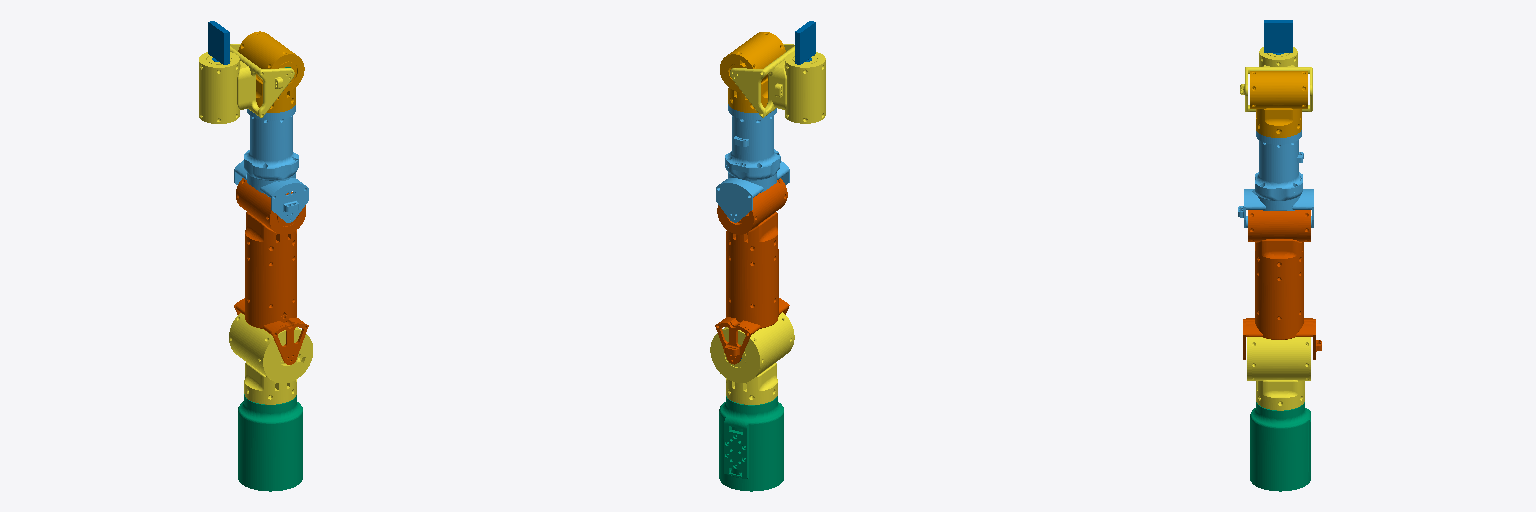
The robot description file, URDF, robot "arm6dof":
<?xml version='1.0' encoding='utf-8'?>
<robot name="arm6dof">
    <link name="world"/>

    <joint name="world_to_base" type="fixed">
        <parent link="world"/>
        <child link="jedziemy_dalej_V2_Obudowa_podstawa-v11-v1"/>
        <origin xyz="0 0 0" rpy="0 0 0"/>
    </joint>

    <link name="Silnik_ak45-36-v1">
        <inertial>
            <origin xyz="0.003580379446193227 5.406745075496171e-14 0.04092390119448847" rpy="0.0 -0.0 0.0" />
            <mass value="0.41683812668748693" />
            <inertia ixx="0.0001596718423631377" iyy="0.00016041758536708417" izz="6.298914759078449e-05" ixy="-1.0059454821655886e-18" iyz="-1.1753999951775428e-17" ixz="-8.523883825948129e-06" />
        </inertial>
        <visual name="Silnik_ak45-36-v1_visual">
            <origin xyz="0.003050453025397868 5.337498401704634e-14 0.034866814490128" rpy="-1.2136222858187365e-13 0.08726646259971599 -1.0000285373388856e-14" />
            <geometry>
                <mesh filename="package://arm6dof/urdf/meshes/Silnik_ak45-36-v1.stl" scale="0.001 0.001 0.001" />
            </geometry>
        </visual>
        <collision name="Silnik_ak45-36-v1_collision">
            <origin xyz="0.003050453025397868 5.337498401704634e-14 0.034866814490128" rpy="-1.2136222858187365e-13 0.08726646259971599 -1.0000285373388856e-14" />
            <geometry>
                <mesh filename="package://arm6dof/urdf/meshes/Silnik_ak45-36-v1.stl" scale="0.001 0.001 0.001" />
            </geometry>
        </collision>
    </link>
    <link name="jedziemy_dalej_V2_Obudowa_podstawa-v11-v1">
        <inertial>
            <origin xyz="2.471665912677848e-07 0.0032741555763765 0.014476011172937737" rpy="0.0 0.0 0.0" />
            <mass value="0.45097504935689353" />
            <inertia ixx="0.0011045045572738714" iyy="0.0010560043800969792" izz="0.0005942744180107535" ixy="-1.1961935170963945e-10" iyz="2.0893202204241118e-05" ixz="5.52168309819333e-09" />
        </inertial>
        <visual name="jedziemy_dalej_V2_Obudowa_podstawa-v11-v1_visual">
            <origin xyz="0.0 0.0 0.0" rpy="0.0 0.0 0.0" />
            <geometry>
                <mesh filename="package://arm6dof/urdf/meshes/jedziemy_dalej_V2_Obudowa_podstawa-v11-v1.stl" scale="0.001 0.001 0.001" />
            </geometry>
        </visual>
        <collision name="jedziemy_dalej_V2_Obudowa_podstawa-v11-v1_collision">
            <origin xyz="0.0 0.0 0.0" rpy="0.0 0.0 0.0" />
            <geometry>
                <mesh filename="package://arm6dof/urdf/meshes/jedziemy_dalej_V2_Obudowa_podstawa-v11-v1.stl" scale="0.001 0.001 0.001" />
            </geometry>
        </collision>
    </link>
    <link name="wyjscie_podstawa-v1">
        <inertial>
            <origin xyz="-0.007191918295976691 0.0017451314732682378 0.08340251930657093" rpy="0.0 -0.0 0.0" />
            <mass value="0.5337084968673121" />
            <inertia ixx="0.001365378966283453" iyy="0.0011271288576293961" izz="0.0008234185615442948" ixy="-3.9309111973658765e-07" iyz="-2.5356254302744965e-05" ixz="4.685015929818161e-05" />
        </inertial>
        <visual name="wyjscie_podstawa-v1_visual">
            <origin xyz="-0.011496597303514164 -0.2575499984801143 0.13197911921705802" rpy="1.2165799188215818e-13 0.08726646259971646 -3.1415926535897833" />
            <geometry>
                <mesh filename="package://arm6dof/urdf/meshes/wyjscie_podstawa-v1.stl" scale="0.001 0.001 0.001" />
            </geometry>
        </visual>
        <collision name="wyjscie_podstawa-v1_collision">
            <origin xyz="-0.011496597303514164 -0.2575499984801143 0.13197911921705802" rpy="1.2165799188215818e-13 0.08726646259971646 -3.1415926535897833" />
            <geometry>
                <mesh filename="package://arm6dof/urdf/meshes/wyjscie_podstawa-v1.stl" scale="0.001 0.001 0.001" />
            </geometry>
        </collision>
    </link>
    <link name="silnik60-v1">
        <inertial>
            <origin xyz="1.8495017073405507e-09 -4.334650220982894e-09 0.030465794657075565" rpy="0.0 -0.0 0.0" />
            <mass value="0.832000556903433" />
            <inertia ixx="0.00034640030869088206" iyy="0.00034640030868888973" izz="0.0005855795083725968" ixy="-1.7694179454963455e-16" iyz="3.972285346277488e-16" ixz="6.1582683397176e-17" />
        </inertial>
        <visual name="silnik60-v1_visual">
            <origin xyz="-0.014825189168012792 -0.16945272255215543 0.03379999848006464" rpy="-1.658062789394613 -1.5707963267947829 0" />
            <geometry>
                <mesh filename="package://arm6dof/urdf/meshes/silnik60-v1.stl" scale="0.001 0.001 0.001" />
            </geometry>
        </visual>
        <collision name="silnik60-v1_collision">
            <origin xyz="-0.014825189168012792 -0.16945272255215543 0.03379999848006464" rpy="-1.658062789394613 -1.5707963267947829 0" />
            <geometry>
                <mesh filename="package://arm6dof/urdf/meshes/silnik60-v1.stl" scale="0.001 0.001 0.001" />
            </geometry>
        </collision>
    </link>
    <link name="jedziemy_dalej_V2_Przegub_2_ucho_bez_kabla-v7-v1">
        <inertial>
            <origin xyz="-0.14928721628295327 -0.05224952167105884 0.013059017101912086" rpy="0.0 -0.0 0.0" />
            <mass value="0.8177528117001724" />
            <inertia ixx="0.0009834893122915855" iyy="0.0042632648765358085" izz="0.0044936841285563005" ixy="-4.325151590830977e-05" iyz="2.1575499105728883e-06" ixz="0.00031319160742792175" />
        </inertial>
        <visual name="jedziemy_dalej_V2_Przegub_2_ucho_bez_kabla-v7-v1_visual">
            <origin xyz="0.06755468522974517 0.0616000000000441 0.08373084013822489" rpy="1.4835298641951804 3.310614754159522e-15 -1.570796326794779" />
            <geometry>
                <mesh filename="package://arm6dof/urdf/meshes/jedziemy_dalej_V2_Przegub_2_ucho_bez_kabla-v7-v1.stl" scale="0.001 0.001 0.001" />
            </geometry>
        </visual>
        <collision name="jedziemy_dalej_V2_Przegub_2_ucho_bez_kabla-v7-v1_collision">
            <origin xyz="0.06755468522974517 0.0616000000000441 0.08373084013822489" rpy="1.4835298641951804 3.310614754159522e-15 -1.570796326794779" />
            <geometry>
                <mesh filename="package://arm6dof/urdf/meshes/jedziemy_dalej_V2_Przegub_2_ucho_bez_kabla-v7-v1.stl" scale="0.001 0.001 0.001" />
            </geometry>
        </collision>
    </link>
    <link name="jedziemy_dalej_V2_3_przegub-v1_Sprzeglo_ak45-36-v12-v1-v1">
        <inertial>
            <origin xyz="2.1240247161102843e-09 0.04108021962528416 -3.7123828278140536e-09" rpy="0.0 -0.0 0.0" />
            <mass value="0.4168381266874869" />
            <inertia ixx="0.00016041758556541727" iyy="6.224340438697792e-05" izz="0.00016041758536859858" ixy="2.0086471548552765e-15" iyz="-1.752445545492444e-16" ixz="-1.7351861318098122e-14" />
        </inertial>
        <visual name="jedziemy_dalej_V2_3_przegub-v1_Sprzeglo_ak45-36-v12-v1-v1_visual">
            <origin xyz="2.1238577385673807e-09 0.02499999583371225 -3.7123680751705025e-09" rpy="1.570796326794901 0.08726646259971611 1.2148404276792067e-13" />
            <geometry>
                <mesh filename="package://arm6dof/urdf/meshes/jedziemy_dalej_V2_3_przegub-v1_Sprzeglo_ak45-36-v12-v1-v1.stl" scale="0.001 0.001 0.001" />
            </geometry>
        </visual>
        <collision name="jedziemy_dalej_V2_3_przegub-v1_Sprzeglo_ak45-36-v12-v1-v1_collision">
            <origin xyz="2.1238577385673807e-09 0.02499999583371225 -3.7123680751705025e-09" rpy="1.570796326794901 0.08726646259971611 1.2148404276792067e-13" />
            <geometry>
                <mesh filename="package://arm6dof/urdf/meshes/jedziemy_dalej_V2_3_przegub-v1_Sprzeglo_ak45-36-v12-v1-v1.stl" scale="0.001 0.001 0.001" />
            </geometry>
        </collision>
    </link>
    <link name="Bez-nazwy-v1_jedziemy_dalej_V2_silnik_ak_45_36-v1-v1">
        <inertial>
            <origin xyz="0.0035429149450254905 -0.04049572393485256 1.3297558110192399e-09" rpy="0.0 -0.0 0.0" />
            <mass value="0.4192142851894471" />
            <inertia ixx="0.00016334542340003255" iyy="6.297161364714481e-05" izz="0.00016411963707958777" ixy="8.849305406149165e-06" iyz="1.5707378973883745e-16" ixz="-1.3742262536253769e-17" />
        </inertial>
        <visual name="Bez-nazwy-v1_jedziemy_dalej_V2_silnik_ak_45_36-v1-v1_visual">
            <origin xyz="0.00521191170660039 -0.059572444214703424 1.3297689743785313e-09" rpy="-1.5707963267950176 6.687500211728214e-15 0.08726646259971646" />
            <geometry>
                <mesh filename="package://arm6dof/urdf/meshes/Bez-nazwy-v1_jedziemy_dalej_V2_silnik_ak_45_36-v1-v1.stl" scale="0.001 0.001 0.001" />
            </geometry>
        </visual>
        <collision name="Bez-nazwy-v1_jedziemy_dalej_V2_silnik_ak_45_36-v1-v1_collision">
            <origin xyz="0.00521191170660039 -0.059572444214703424 1.3297689743785313e-09" rpy="-1.5707963267950176 6.687500211728214e-15 0.08726646259971646" />
            <geometry>
                <mesh filename="package://arm6dof/urdf/meshes/Bez-nazwy-v1_jedziemy_dalej_V2_silnik_ak_45_36-v1-v1.stl" scale="0.001 0.001 0.001" />
            </geometry>
        </collision>
    </link>
    <link name="jedziemy_dalej_V2_Obrót-pózniej-v5-v1">
        <inertial>
            <origin xyz="-0.0046158587778199235 -0.0011095045862415448 -0.051933778126588205" rpy="0.0 -0.0 0.0" />
            <mass value="0.32878531940648154" />
            <inertia ixx="0.000509832899061511" iyy="0.0004038297217688336" izz="0.0003372019176561922" ixy="1.7348225850772502e-07" iyz="-1.0277384035525924e-05" ixz="-1.5994832759011132e-05" />
        </inertial>
        <visual name="jedziemy_dalej_V2_Obrót-pózniej-v5-v1_visual">
            <origin xyz="-0.010075962435666367 0.00754999980982846 -0.11574114442623273" rpy="-3.141592653589672 -0.08726646259971646 3.1415926535897865" />
            <geometry>
                <mesh filename="package://arm6dof/urdf/meshes/jedziemy_dalej_V2_Obrót-pózniej-v5-v1.stl" scale="0.001 0.001 0.001" />
            </geometry>
        </visual>
        <collision name="jedziemy_dalej_V2_Obrót-pózniej-v5-v1_collision">
            <origin xyz="-0.010075962435666367 0.00754999980982846 -0.11574114442623273" rpy="-3.141592653589672 -0.08726646259971646 3.1415926535897865" />
            <geometry>
                <mesh filename="package://arm6dof/urdf/meshes/jedziemy_dalej_V2_Obrót-pózniej-v5-v1.stl" scale="0.001 0.001 0.001" />
            </geometry>
        </collision>
    </link>
    <link name="jedziemy_dalej_V2_Komponent98-v1">
        <inertial>
            <origin xyz="-0.007566279995924292 0.05135006757190421 -0.08807751210315004" rpy="0.0 -0.0 0.0" />
            <mass value="0.3053908468979247" />
            <inertia ixx="0.0008056737865500107" iyy="0.0006986117839719048" izz="0.0003737065384801923" ixy="5.44375166488086e-07" iyz="5.261648555922213e-06" ixz="-3.722509979493284e-05" />
        </inertial>
        <visual name="jedziemy_dalej_V2_Komponent98-v1_visual">
            <origin xyz="-0.0104897036537713 0.05128649132976626 -0.12245172543197906" rpy="1.5707963267950182 -0.0872664625997162 3.1415926535897865" />
            <geometry>
                <mesh filename="package://arm6dof/urdf/meshes/jedziemy_dalej_V2_Komponent98-v1.stl" scale="0.001 0.001 0.001" />
            </geometry>
        </visual>
        <collision name="jedziemy_dalej_V2_Komponent98-v1_collision">
            <origin xyz="-0.0104897036537713 0.05128649132976626 -0.12245172543197906" rpy="1.5707963267950182 -0.0872664625997162 3.1415926535897865" />
            <geometry>
                <mesh filename="package://arm6dof/urdf/meshes/jedziemy_dalej_V2_Komponent98-v1.stl" scale="0.001 0.001 0.001" />
            </geometry>
        </collision>
    </link>
    <link name="jedziemy_dalej_V2_silnik_ak45-10-v1">
        <inertial>
            <origin xyz="3.4273072380130997e-10 1.3841049906204716e-09 0.028604161845095226" rpy="0.0 -0.0 0.0" />
            <mass value="0.3323674270148887" />
            <inertia ixx="7.296632840646244e-05" iyy="7.296632840774278e-05" izz="8.75986515185348e-05" ixy="-1.1969591984239966e-16" iyz="3.941048055676882e-17" ixz="-5.20537290375787e-18" />
        </inertial>
        <visual name="jedziemy_dalej_V2_silnik_ak45-10-v1_visual">
            <origin xyz="0.645624326954073 0.04934544478131574 0.020169594045718397" rpy="0.08726646259971632 -1.5707963267947829 0" />
            <geometry>
                <mesh filename="package://arm6dof/urdf/meshes/jedziemy_dalej_V2_silnik_ak45-10-v1.stl" scale="0.001 0.001 0.001" />
            </geometry>
        </visual>
        <collision name="jedziemy_dalej_V2_silnik_ak45-10-v1_collision">
            <origin xyz="0.645624326954073 0.04934544478131574 0.020169594045718397" rpy="0.08726646259971632 -1.5707963267947829 0" />
            <geometry>
                <mesh filename="package://arm6dof/urdf/meshes/jedziemy_dalej_V2_silnik_ak45-10-v1.stl" scale="0.001 0.001 0.001" />
            </geometry>
        </collision>
    </link>
    <link name="jedziemy_dalej_V2_Komponent98-Kopiuj-v1">
        <inertial>
            <origin xyz="0.07365746358145224 0.012687811439143602 0.04794738442370318" rpy="0.0 -0.0 0.0" />
            <mass value="0.29460800887883326" />
            <inertia ixx="0.00040040959872039705" iyy="0.00040577634423346384" izz="0.0004474525637582702" ixy="-6.379315144444338e-06" iyz="1.0811119801610974e-06" ixz="2.7359489795726424e-06" />
        </inertial>
        <visual name="jedziemy_dalej_V2_Komponent98-Kopiuj-v1_visual">
            <origin xyz="0.09312353433404426 0.0026086896217353585 0.047950207200446696" rpy="-1.1353778868109705e-13 -6.5913539911443344e-15 -0.08726646259971657" />
            <geometry>
                <mesh filename="package://arm6dof/urdf/meshes/jedziemy_dalej_V2_Komponent98-Kopiuj-v1.stl" scale="0.001 0.001 0.001" />
            </geometry>
        </visual>
        <collision name="jedziemy_dalej_V2_Komponent98-Kopiuj-v1_collision">
            <origin xyz="0.09312353433404426 0.0026086896217353585 0.047950207200446696" rpy="-1.1353778868109705e-13 -6.5913539911443344e-15 -0.08726646259971657" />
            <geometry>
                <mesh filename="package://arm6dof/urdf/meshes/jedziemy_dalej_V2_Komponent98-Kopiuj-v1.stl" scale="0.001 0.001 0.001" />
            </geometry>
        </collision>
    </link>
    <link name="jedziemy_dalej_V2_silnik_ak45-10-Kopiuj-v1">
        <inertial>
            <origin xyz="0.0006150751617115268 -0.007030380133527175 2.7995666440627786e-09" rpy="0.0 -0.0 0.0" />
            <mass value="0.5402493377389448" />
            <inertia ixx="0.0005552695009332642" iyy="0.00013221837533821008" izz="0.0005205551135322728" ixy="3.729766383056901e-05" iyz="5.345116710353537e-17" ixz="1.6263032587282567e-18" />
        </inertial>
        <visual name="jedziemy_dalej_V2_silnik_ak45-10-Kopiuj-v1_visual">
            <origin xyz="0.6489814058411396 0.010973813352139886 0.007112201434090681" rpy="-1.5707963267949976 1.1724678376479107e-13 1.6580627893946132" />
            <geometry>
                <mesh filename="package://arm6dof/urdf/meshes/jedziemy_dalej_V2_silnik_ak45-10-Kopiuj-v1.stl" scale="0.001 0.001 0.001" />
            </geometry>
        </visual>
        <collision name="jedziemy_dalej_V2_silnik_ak45-10-Kopiuj-v1_collision">
            <origin xyz="0.6489814058411396 0.010973813352139886 0.007112201434090681" rpy="-1.5707963267949976 1.1724678376479107e-13 1.6580627893946132" />
            <geometry>
                <mesh filename="package://arm6dof/urdf/meshes/jedziemy_dalej_V2_silnik_ak45-10-Kopiuj-v1.stl" scale="0.001 0.001 0.001" />
            </geometry>
        </collision>
    </link>
    <joint name="joint1" type="continuous">
        <origin xyz="2.0165472403022023e-09 -4.9131935433459895e-14 0.06000000023355941" rpy="-3.141592653589672 0.08726646259971646 -3.141592653589792" />
        <parent link="jedziemy_dalej_V2_Obudowa_podstawa-v11-v1" />
        <child link="Silnik_ak45-36-v1" />
        <axis xyz="-0.087156 3.041496221545257e-16 -0.996195" />
    </joint>
    <joint name="Silnik_ak45-36-v1_Sztywne-2" type="fixed">
        <origin xyz="-1.7430000000011602e-05 6.083022974223082e-20 -0.0001992399999999961" rpy="-3.141592653589793 -0.0 0.0" />
        <parent link="Silnik_ak45-36-v1" />
        <child link="wyjscie_podstawa-v1" />
    </joint>
    <joint name="joint2" type="continuous">
        <origin xyz="0.0 0.0 0.00019999999999999575" rpy="-1.5707963267948966 -3.7231628423627605e-15 1.5707963267948966" />
        <parent link="silnik60-v1" />
        <child link="jedziemy_dalej_V2_Przegub_2_ucho_bez_kabla-v7-v1" />
        <axis xyz="0.0 1.0 0.0" />
    </joint>
    <joint name="jedziemy_dalej_V2_Przegub_2_ucho_bez_kabla-v7-v1_Sztywne-4" type="fixed">
        <origin xyz="-0.23761789 -0.10426027000000002 0.02073868000000001" rpy="-3.818058395732717e-16 -2.524354896707238e-29 0.0" />
        <parent link="jedziemy_dalej_V2_Przegub_2_ucho_bez_kabla-v7-v1" />
        <child link="jedziemy_dalej_V2_3_przegub-v1_Sprzeglo_ak45-36-v12-v1-v1" />
    </joint>
    <joint name="joint3" type="continuous">
        <origin xyz="0.0 -0.00019999999999999575 0.0" rpy="-9.638134407182025e-45 1.570796326794893 0" />
        <parent link="jedziemy_dalej_V2_3_przegub-v1_Sprzeglo_ak45-36-v12-v1-v1" />
        <child link="jedziemy_dalej_V2_Komponent98-v1" />
        <axis xyz="0.0 -1.0 0.0" />
    </joint>
    <joint name="joint4" type="continuous">
        <origin xyz="-0.01372318 0.05128649 -0.15941054999999998" rpy="-1.5707963267948966 -1.5777218104420236e-30 0.0" />
        <parent link="jedziemy_dalej_V2_Komponent98-v1" />
        <child link="Bez-nazwy-v1_jedziemy_dalej_V2_silnik_ak_45_36-v1-v1" />
        <axis xyz="0.087156 -0.996195 2.514749726325267e-29" />
    </joint>
    <joint name="Bez-nazwy-v1_jedziemy_dalej_V2_silnik_ak_45_36-v1-v1_Sztywne-7" type="fixed">
        <origin xyz="-1.742999999999384e-05 0.0001992399999999961 0.0" rpy="1.5707963267948966 -3.1554436208840472e-30 1.5777218104420236e-30" />
        <parent link="Bez-nazwy-v1_jedziemy_dalej_V2_silnik_ak_45_36-v1-v1" />
        <child link="jedziemy_dalej_V2_Obrót-pózniej-v5-v1" />
    </joint>
    <joint name="jedziemy_dalej_V2_Obrót-pózniej-v5-v1_Sztywne-8" type="fixed">
        <origin xyz="-0.006841730000000004 -0.04755 -0.07820128000000001" rpy="-1.5707963267949003 -0.0 0.0" />
        <parent link="jedziemy_dalej_V2_Obrót-pózniej-v5-v1" />
        <child link="jedziemy_dalej_V2_silnik_ak45-10-v1" />
    </joint>
    <joint name="joint5" type="continuous">
        <origin xyz="-0.006811730000000003 0.04755000000000001 -0.07800354000000002" rpy="1.570796326794893 -0.0 0.0" />
        <parent link="jedziemy_dalej_V2_Obrót-pózniej-v5-v1" />
        <child link="jedziemy_dalej_V2_Komponent98-Kopiuj-v1" />
        <axis xyz="-3.1554436208840472e-30 -3.723162842362723e-15 1.0" />
    </joint>
    <joint name="wyjscie_podstawa-v1_Sztywne-10" type="fixed">
        <origin xyz="-0.009552769999999988 -0.050499999999999996 0.10918289000000002" rpy="-1.5707963267949003 -0.0 0.0" />
        <parent link="wyjscie_podstawa-v1" />
        <child link="silnik60-v1" />
    </joint>
    <joint name="joint6" type="continuous">
        <origin xyz="0.08989005999999998 -0.03435013000000016 0.04795020999999988" rpy="-3.1415926535897896 -3.155443620884053e-30 1.5777218104420119e-30" />
        <parent link="jedziemy_dalej_V2_Komponent98-Kopiuj-v1" />
        <child link="jedziemy_dalej_V2_silnik_ak45-10-Kopiuj-v1" />
        <axis xyz="0.087156 -0.996195 0.0" />
    </joint>

    <ros2_control name="arm6dof_system" type="system">
        <hardware>
            <plugin>arm6dof/ArmHardwareInterface</plugin>
        </hardware>
        <joint name="joint1">
            <command_interface name="position"/>
            <state_interface name="position"/>
            <state_interface name="velocity"/>
        </joint>
        <joint name="joint2">
            <command_interface name="position"/>
            <state_interface name="position"/>
            <state_interface name="velocity"/>
        </joint>
        <joint name="joint3">
            <command_interface name="position"/>
            <state_interface name="position"/>
            <state_interface name="velocity"/>
        </joint>
        <joint name="joint4">
            <command_interface name="position"/>
            <state_interface name="position"/>
            <state_interface name="velocity"/>
        </joint>
        <joint name="joint5">
            <command_interface name="position"/>
            <state_interface name="position"/>
            <state_interface name="velocity"/>
        </joint>
        <joint name="joint6">
            <command_interface name="position"/>
            <state_interface name="position"/>
            <state_interface name="velocity"/>
        </joint>
    </ros2_control>

</robot>

--- Render facts (derived) ---
The picture shows the robot from 3 angles, left to right: view 1: azimuth 30°, elevation 25°; view 2: azimuth 150°, elevation 25°; view 3: azimuth 270°, elevation 25°; orthographic projection.
Model arm6dof with 13 links and 12 joints (6 continuous, 6 fixed), rooted at world, posed every joint at zero.
Links seen in each view (by area): view 1: jedziemy_dalej_V2_Przegub_2_ucho_bez_kabla-v7-v1, jedziemy_dalej_V2_Obudowa_podstawa-v11-v1, jedziemy_dalej_V2_Komponent98-v1, jedziemy_dalej_V2_Komponent98-Kopiuj-v1, wyjscie_podstawa-v1, jedziemy_dalej_V2_Obrót-pózniej-v5-v1, jedziemy_dalej_V2_silnik_ak45-10-Kopiuj-v1; view 2: jedziemy_dalej_V2_Przegub_2_ucho_bez_kabla-v7-v1, jedziemy_dalej_V2_Obudowa_podstawa-v11-v1, jedziemy_dalej_V2_Komponent98-v1, jedziemy_dalej_V2_Komponent98-Kopiuj-v1, wyjscie_podstawa-v1, jedziemy_dalej_V2_Obrót-pózniej-v5-v1, jedziemy_dalej_V2_silnik_ak45-10-Kopiuj-v1; view 3: jedziemy_dalej_V2_Przegub_2_ucho_bez_kabla-v7-v1, jedziemy_dalej_V2_Obudowa_podstawa-v11-v1, wyjscie_podstawa-v1, jedziemy_dalej_V2_Komponent98-v1, jedziemy_dalej_V2_Obrót-pózniej-v5-v1, jedziemy_dalej_V2_Komponent98-Kopiuj-v1, jedziemy_dalej_V2_silnik_ak45-10-Kopiuj-v1.
Boxes of the visible links, <box> form: jedziemy_dalej_V2_Przegub_2_ucho_bez_kabla-v7-v1: <box>234,178,308,364</box>; jedziemy_dalej_V2_Obudowa_podstawa-v11-v1: <box>238,394,302,491</box>; jedziemy_dalej_V2_Komponent98-v1: <box>234,105,308,222</box>; jedziemy_dalej_V2_Komponent98-Kopiuj-v1: <box>199,44,294,123</box>; wyjscie_podstawa-v1: <box>229,313,312,404</box>; jedziemy_dalej_V2_Obrót-pózniej-v5-v1: <box>238,31,304,112</box>; jedziemy_dalej_V2_silnik_ak45-10-Kopiuj-v1: <box>208,21,229,64</box>; jedziemy_dalej_V2_Przegub_2_ucho_bez_kabla-v7-v1: <box>715,178,789,364</box>; jedziemy_dalej_V2_Obudowa_podstawa-v11-v1: <box>719,396,783,491</box>; jedziemy_dalej_V2_Komponent98-v1: <box>716,104,789,222</box>; jedziemy_dalej_V2_Komponent98-Kopiuj-v1: <box>730,44,825,123</box>; wyjscie_podstawa-v1: <box>710,312,794,404</box>; jedziemy_dalej_V2_Obrót-pózniej-v5-v1: <box>720,32,785,112</box>; jedziemy_dalej_V2_silnik_ak45-10-Kopiuj-v1: <box>795,21,815,64</box>; jedziemy_dalej_V2_Przegub_2_ucho_bez_kabla-v7-v1: <box>1243,210,1321,359</box>; jedziemy_dalej_V2_Obudowa_podstawa-v11-v1: <box>1250,402,1310,491</box>; wyjscie_podstawa-v1: <box>1247,337,1310,410</box>; jedziemy_dalej_V2_Komponent98-v1: <box>1238,130,1313,227</box>; jedziemy_dalej_V2_Obrót-pózniej-v5-v1: <box>1250,71,1307,137</box>; jedziemy_dalej_V2_Komponent98-Kopiuj-v1: <box>1240,47,1312,111</box>; jedziemy_dalej_V2_silnik_ak45-10-Kopiuj-v1: <box>1264,20,1292,54</box>.
Bounding box of the posed robot: 0.1743 × 0.1385 × 0.7848 m (x, y, z).
12 mesh visuals loaded from 12 distinct referenced files (12 binary STL).
